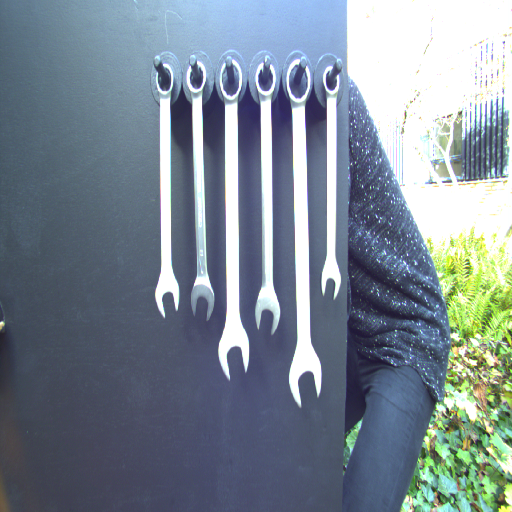bottom: (286, 348, 326, 411), (215, 326, 253, 383), (252, 285, 282, 337), (152, 273, 183, 322), (188, 277, 216, 323), (319, 257, 343, 302)
top: (283, 56, 313, 106), (219, 58, 247, 103), (252, 61, 279, 99), (319, 59, 344, 100), (184, 60, 209, 99), (154, 61, 177, 98)
